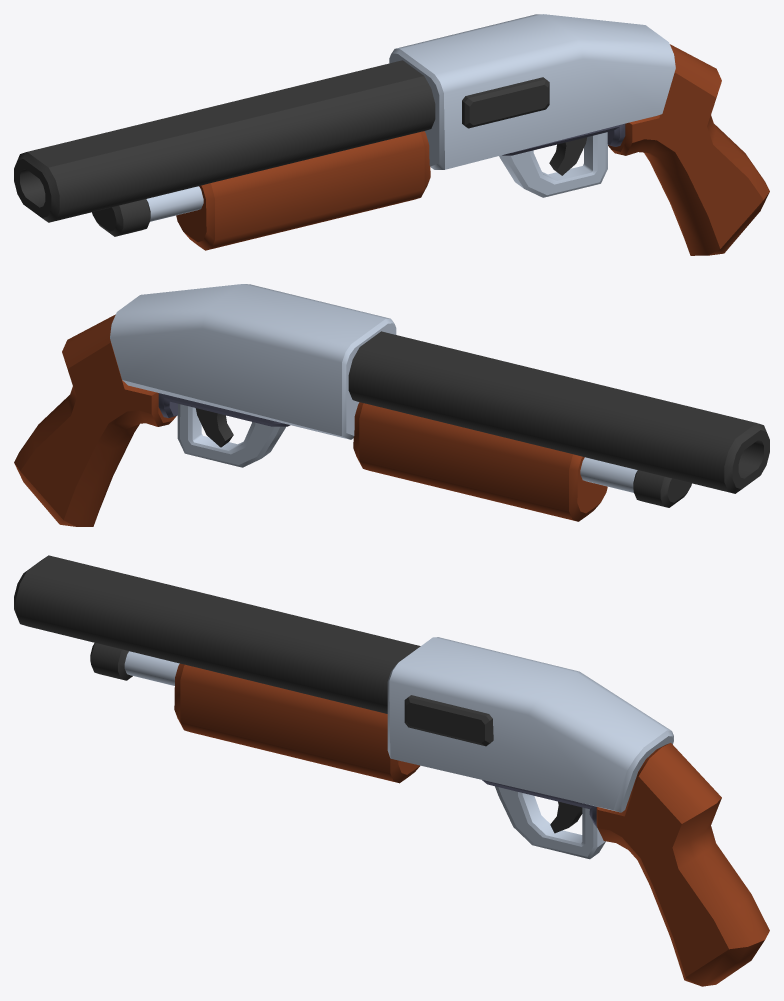
Rendered from shotgun.fbx.
3 views of the same model, one above another, from view 1: azimuth 30°, elevation 25°; view 2: azimuth 150°, elevation 25°; view 3: azimuth 330°, elevation 25° (orthographic).
Parts seen in each view (by area): view 1: Shotgun; view 2: Shotgun; view 3: Shotgun.
Part boxes in pixels (x1,y1,x2,y2): Shotgun: (14, 14, 769, 255); Shotgun: (14, 284, 769, 526); Shotgun: (14, 555, 769, 986).
Size of the model in its own units: 1667 by 570 by 226.
Materials: 1 (1 with a texture image).
